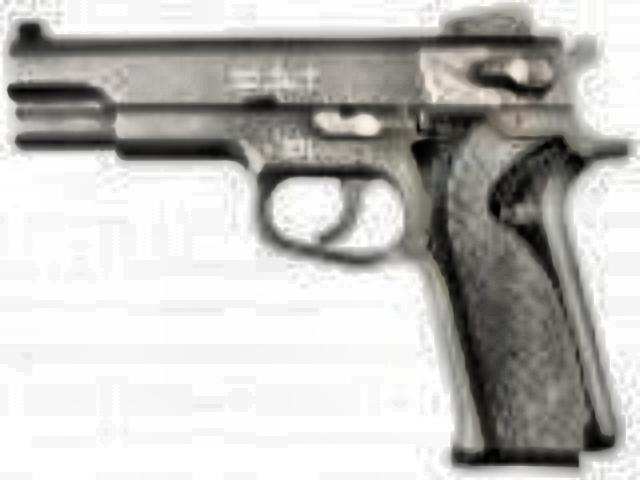pistol: (16, 8, 620, 472)
